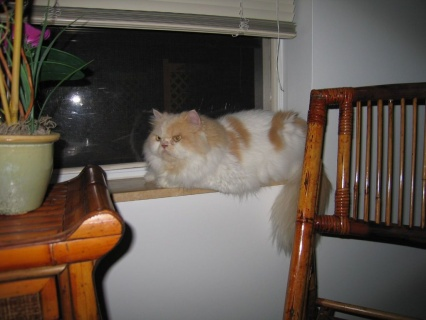Cat: (139, 107, 335, 256)
